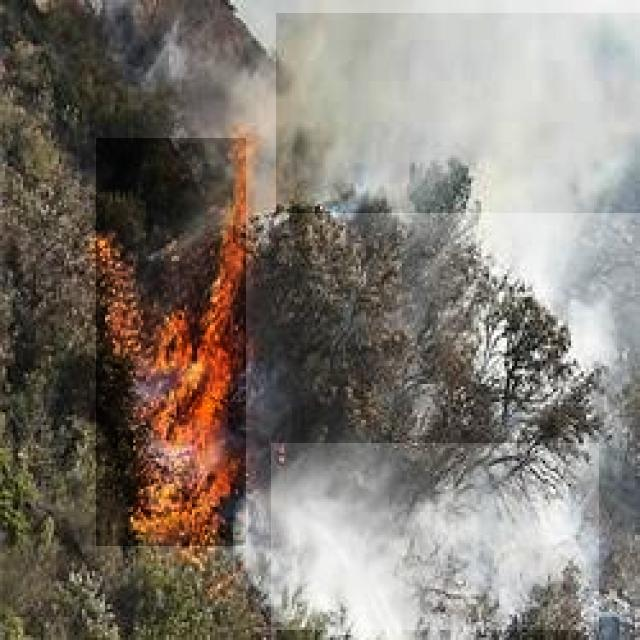Fire: (96, 138, 246, 546)
Smoke: (276, 13, 640, 214), (271, 443, 599, 630)
